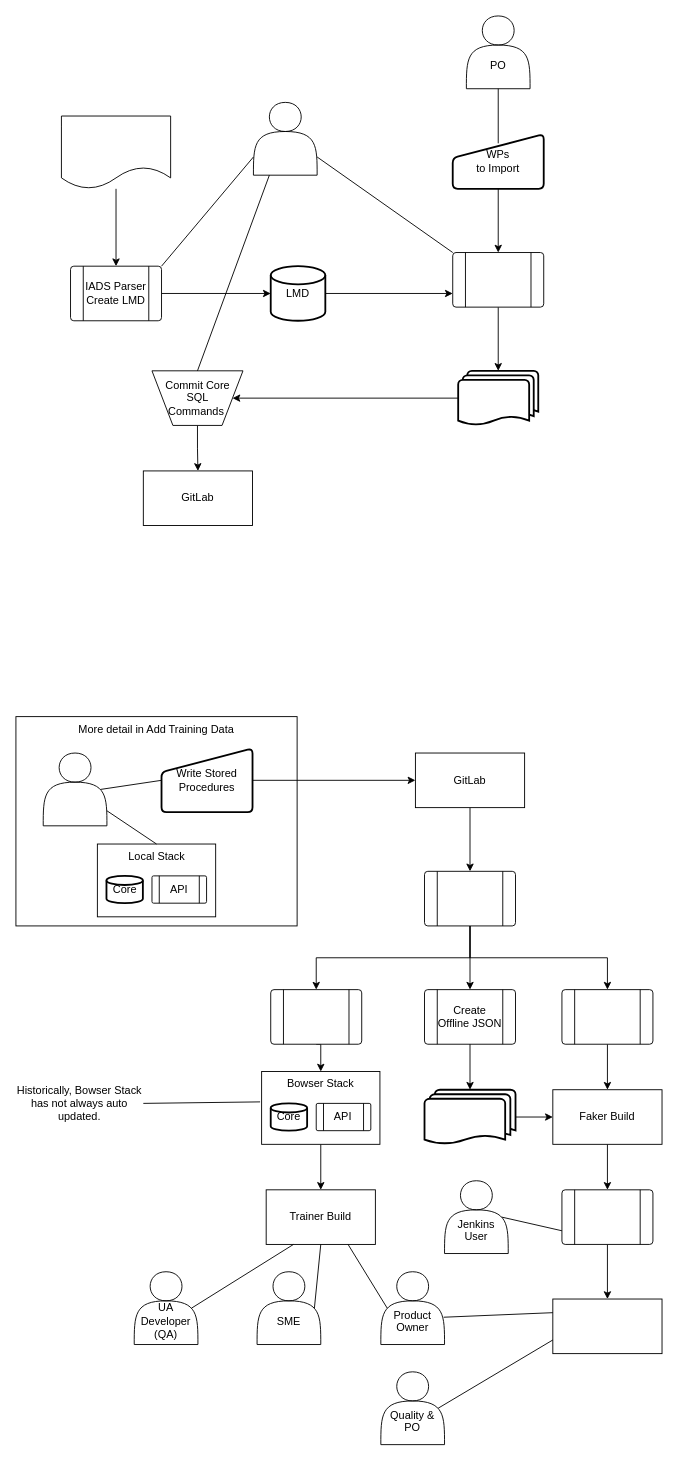
The diagram is 678 pixels wide and 1461 high, and some of its shapes have lost their labels. Each missing label, with the centre of its shape:
"Air Gap Build" belongs at point 607,1326.
"CI/CD" belongs at point 470,898.
"Core SQL" belongs at point 498,397.
"Create Faker Build" belongs at point 607,1016.
"IADS" belongs at point 116,152.
"IADS Parser Create Core SQL" belongs at point 498,279.
"Jenkins Create AirGap" belongs at point 607,1216.
"Offline JSON" belongs at point 469,1116.
"Recreate Bowser Stacks" belongs at point 316,1016.
"S&T Developer" belongs at point 285,138.
"UA Developer" belongs at point 74,789.
